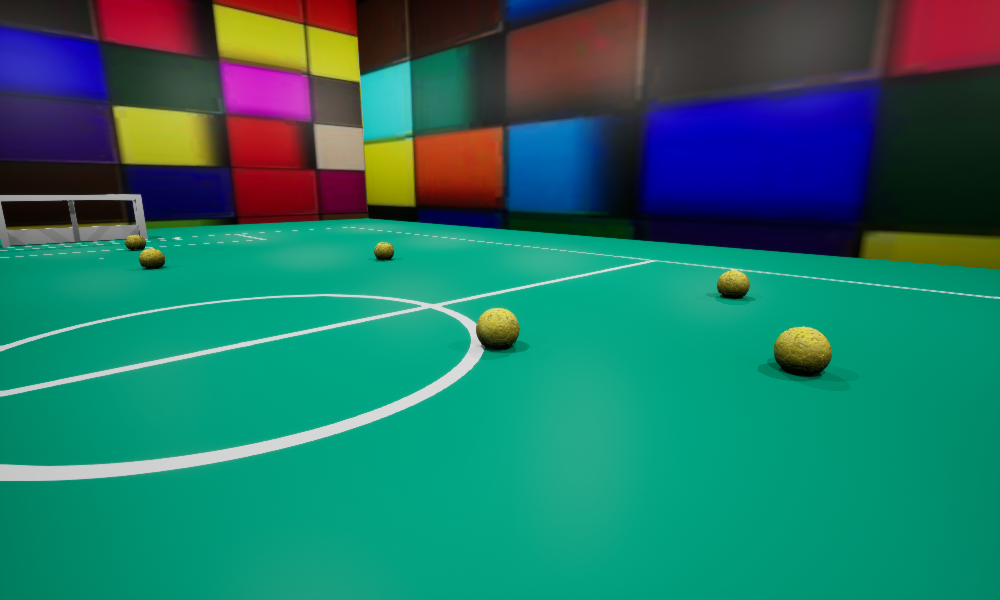b: (774, 326, 831, 375), (476, 308, 519, 348), (717, 270, 749, 297), (139, 248, 164, 268), (374, 242, 393, 259), (125, 235, 145, 250)
g: (0, 194, 147, 247)
